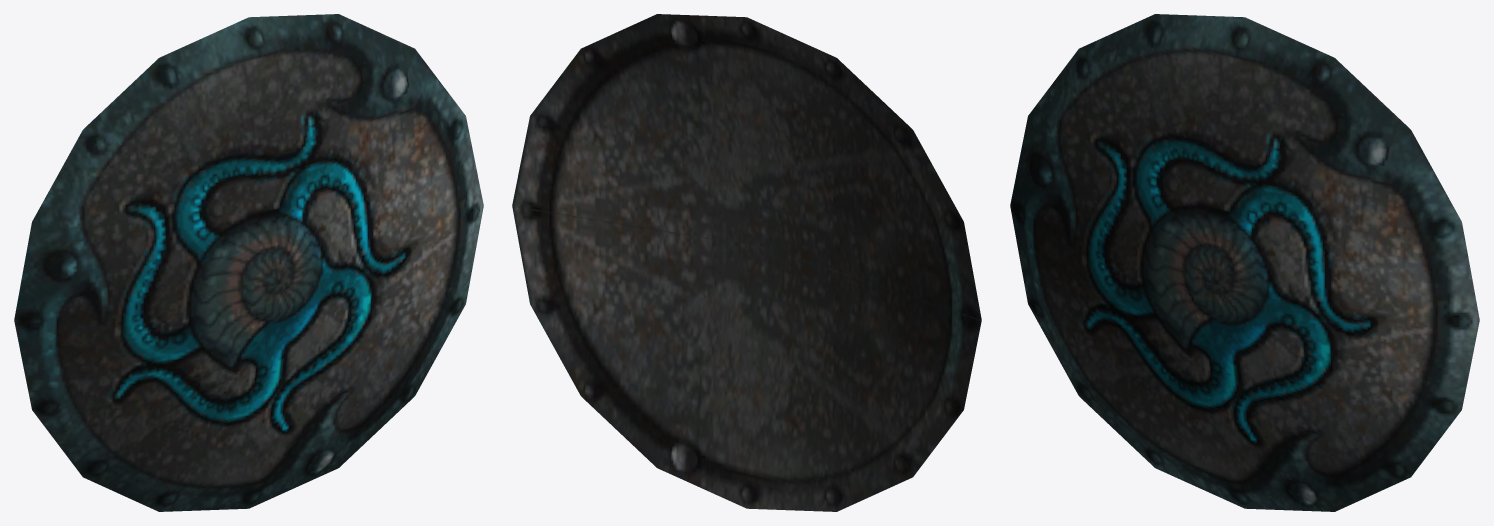
3 views of the same model, side by side, from view 1: azimuth 30°, elevation 25°; view 2: azimuth 150°, elevation 25°; view 3: azimuth 330°, elevation 25° (orthographic).
Parts seen in each view (by area): view 1: it10542; view 2: it10542; view 3: it10542.
Boxes of the visible parts, x1,y1,x2,y2 form: it10542: (14,14,483,511); it10542: (512,14,981,511); it10542: (1010,14,1479,511).
Bounding box in the file's own units: 3 × 3 × 0.3296.
1 material, 1 textured.
